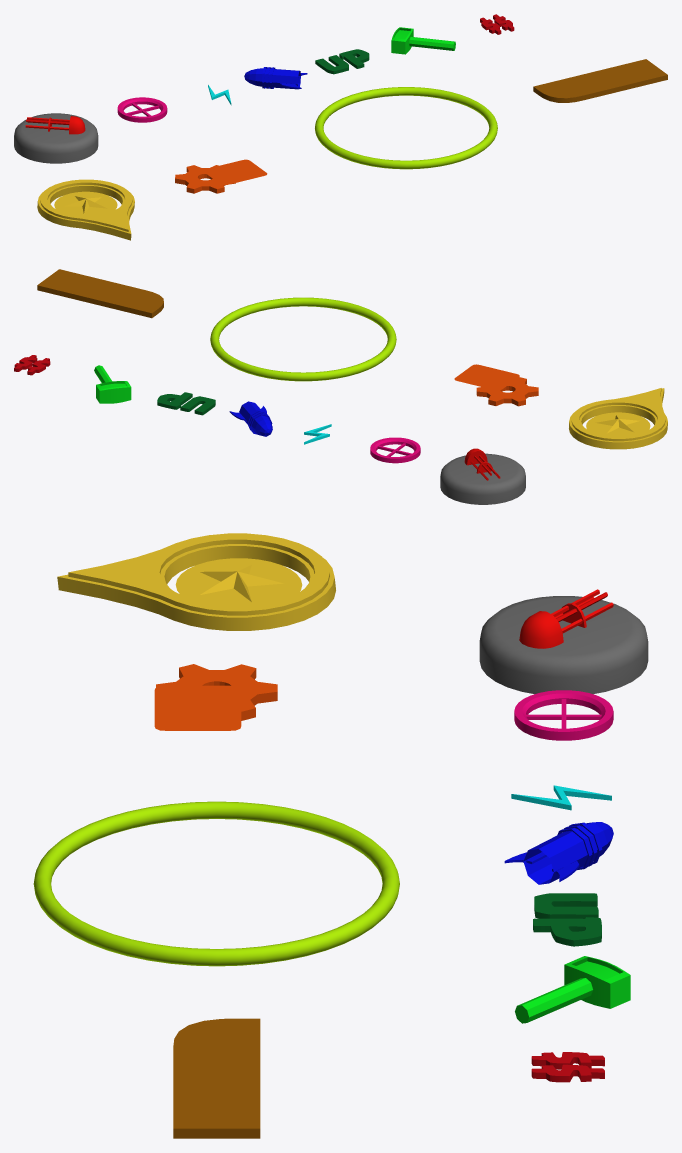
The model's file is UI_Elements.fbx.
The picture shows the model from 3 angles, top to bottom: view 1: azimuth 30°, elevation 25°; view 2: azimuth 150°, elevation 25°; view 3: azimuth 270°, elevation 25°; orthographic projection. The views are drawn at different scales.
Visible parts, largest first — view 1: Circle.001, Torus, Circle.002, Plane, Sphere, Plane.001, Cube.001, Circle.003, Circle, Text, Cube, Text.001; view 2: Circle.001, Torus, Circle.002, Plane, Plane.001, Circle, Cube.001, Circle.003, Text, Sphere, Cube, Text.001; view 3: Circle.001, Torus, Circle.002, Plane, Plane.001, Cube.001, Sphere, Circle.003, Text, Circle, Cube, Text.001 (+1 smaller).
Part boxes in pixels (left/top/right/bottom): Circle.001: left=37, top=179, right=134, bottom=240; Torus: left=315, top=87, right=497, bottom=169; Circle.002: left=14, top=113, right=98, bottom=163; Plane: left=533, top=59, right=667, bottom=102; Sphere: left=244, top=67, right=307, bottom=89; Plane.001: left=203, top=159, right=267, bottom=185; Cube.001: left=391, top=27, right=455, bottom=54; Circle.003: left=117, top=97, right=167, bottom=122; Circle: left=175, top=165, right=235, bottom=193; Text: left=315, top=49, right=369, bottom=74; Cube: left=25, top=116, right=85, bottom=134; Text.001: left=480, top=14, right=514, bottom=34; Circle.001: left=569, top=388, right=667, bottom=449; Torus: left=210, top=297, right=396, bottom=381; Circle.002: left=440, top=453, right=525, bottom=504; Plane: left=37, top=269, right=163, bottom=318; Plane.001: left=454, top=364, right=519, bottom=390; Circle: left=476, top=377, right=538, bottom=406; Cube.001: left=94, top=365, right=131, bottom=403; Circle.003: left=370, top=437, right=420, bottom=463; Text: left=157, top=392, right=215, bottom=415; Sphere: left=229, top=401, right=272, bottom=436; Cube: left=464, top=448, right=500, bottom=480; Text.001: left=14, top=355, right=50, bottom=375; Circle.001: left=57, top=533, right=335, bottom=630; Torus: left=33, top=801, right=399, bottom=966; Circle.002: left=479, top=596, right=648, bottom=694; Plane: left=173, top=1018, right=260, bottom=1138; Plane.001: left=154, top=685, right=241, bottom=730; Cube.001: left=515, top=956, right=630, bottom=1023; Sphere: left=504, top=822, right=613, bottom=884; Circle.003: left=514, top=690, right=613, bottom=740; Text: left=533, top=893, right=601, bottom=946; Circle: left=156, top=664, right=277, bottom=720; Cube: left=519, top=589, right=613, bottom=648; Text.001: left=531, top=1052, right=604, bottom=1082.
Bounding box in the file's own units: 3228 × 150 × 1414.
